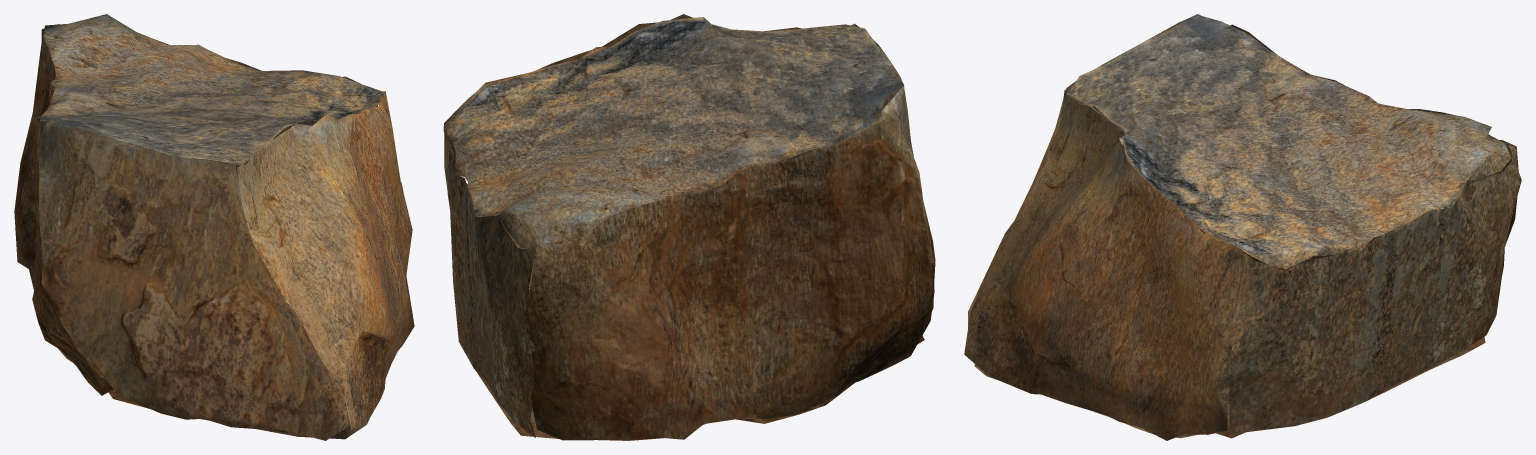
File: rock_2.glb
The picture shows the model from 3 angles, left to right: view 1: azimuth 30°, elevation 25°; view 2: azimuth 150°, elevation 25°; view 3: azimuth 270°, elevation 25°; orthographic projection. The views are drawn at different scales.
Parts seen in each view (by area): view 1: Rock2; view 2: Rock2; view 3: Rock2.
Part boxes in pixels (x1,y1,x2,y2): Rock2: [14, 14, 414, 440]; Rock2: [443, 14, 935, 440]; Rock2: [964, 14, 1521, 440].
Bounding box in the file's own units: 0.7875 × 0.548 × 1.
1 material, 1 textured.
